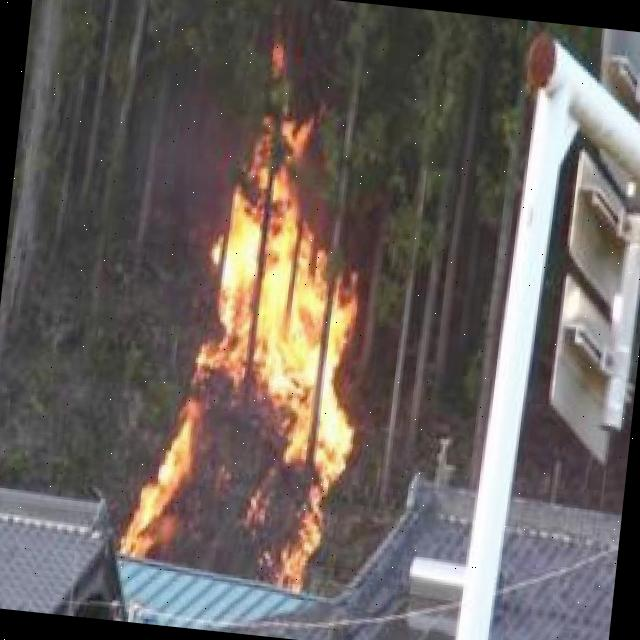fire: (129, 120, 384, 590)
